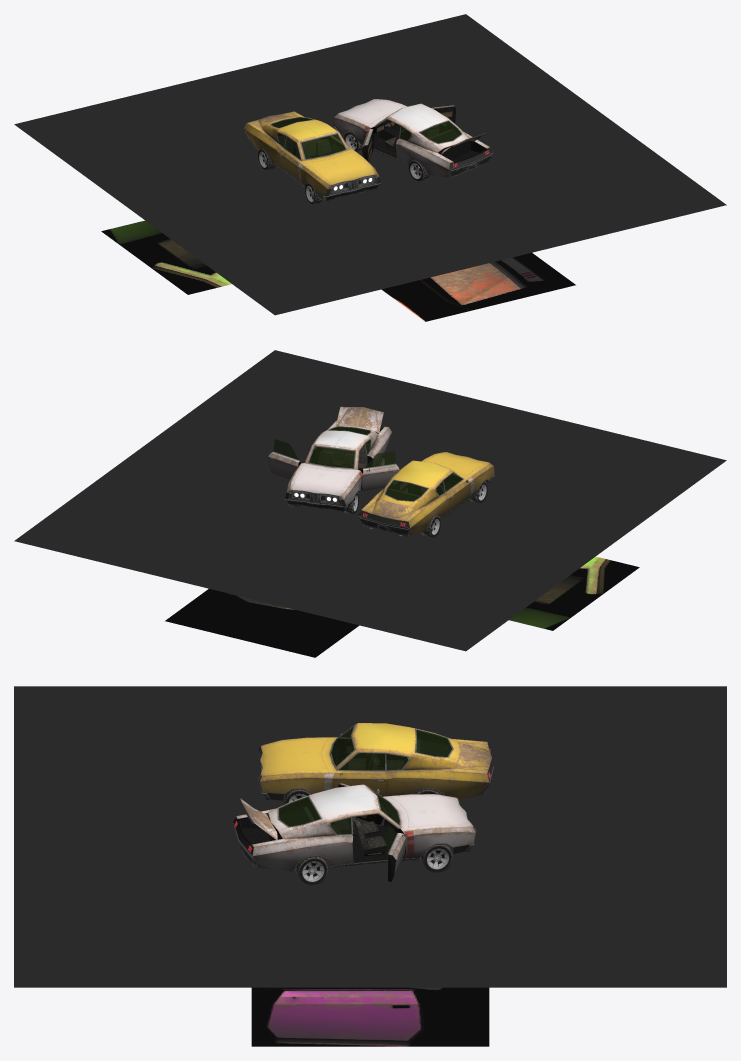
Rendered from 70_muscle_car.glb.
3 renders of one model, top to bottom at view 1: azimuth 30°, elevation 25°; view 2: azimuth 150°, elevation 25°; view 3: azimuth 270°, elevation 25°, orthographic. The views are drawn at different scales.
Visible parts, largest first — view 1: Plano.001, materials3, materials3.003, body.002, body, hood, hood.004, interiorCapsule.001, windShielf, rearWindow.001, trunk_Interior.001; view 2: Plano.001, materials3.002, materials3.003, body, body.002, hood.004, trunk_door.002, windShielf.001, hood, trunk_door, door_Left.002, rearWindow (+1 smaller); view 3: Plano.001, materials3.001, body.002, body, hood, hood.004, interiorCapsule.001, door_Left, trunk_door, rearWindow.001, rearWindow, rearWheel_Right.001 (+4 smaller).
Part boxes in pixels (x1,y1,x2,y2): Plano.001: [14, 14, 726, 315]; materials3: [381, 253, 575, 321]; materials3.003: [101, 220, 231, 294]; body.002: [333, 99, 493, 177]; body: [243, 111, 380, 198]; hood: [305, 151, 373, 184]; hood.004: [339, 99, 404, 124]; interiorCapsule.001: [370, 122, 460, 162]; windShielf: [301, 134, 345, 158]; rearWindow.001: [420, 121, 461, 143]; trunk_Interior.001: [439, 140, 486, 162]; Plano.001: [14, 350, 726, 651]; materials3.002: [165, 589, 359, 657]; materials3.003: [509, 556, 639, 630]; body: [357, 452, 494, 535]; body.002: [285, 420, 392, 507]; hood.004: [292, 465, 355, 495]; trunk_door.002: [335, 406, 384, 433]; windShielf.001: [309, 446, 354, 467]; hood: [425, 452, 487, 476]; trunk_door: [364, 500, 415, 522]; door_Left.002: [361, 464, 399, 490]; rearWindow: [385, 480, 427, 500]; Plano.001: [14, 686, 726, 987]; materials3.001: [251, 987, 489, 1046]; body.002: [233, 784, 475, 871]; body: [259, 723, 493, 800]; hood: [260, 738, 328, 774]; hood.004: [391, 795, 472, 827]; interiorCapsule.001: [279, 795, 405, 863]; door_Left: [332, 770, 387, 796]; trunk_door: [456, 741, 492, 772]; rearWindow.001: [279, 796, 320, 826]; rearWindow: [416, 729, 452, 756]; rearWheel_Right.001: [295, 856, 328, 885].
Size of what is drawn, in the model's own units: 14.14 by 2.72 by 14.14.
Materials: 15 (13 with a texture image).
